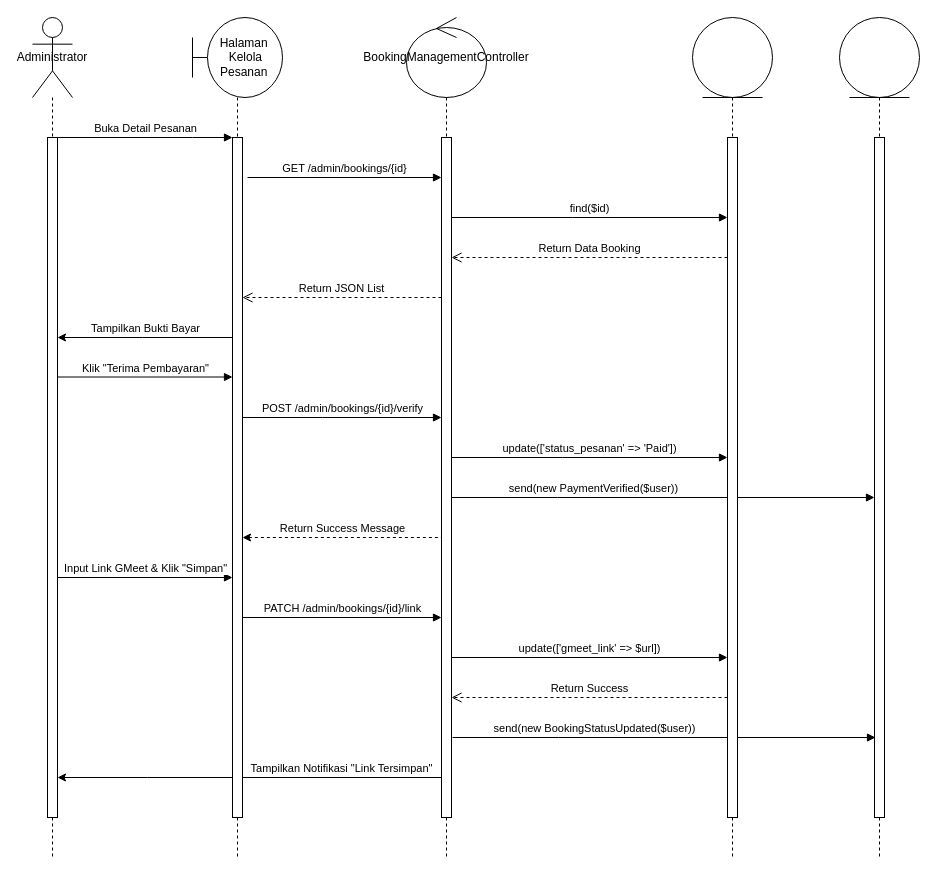
Some shapes in this 937 by 875 pixel diagram are drawn without their labels. Here are the shapes that lost their labels. From the top down, the box of each, then its label:
(692, 16, 772, 858): Booking
(838, 16, 920, 858): Notification
